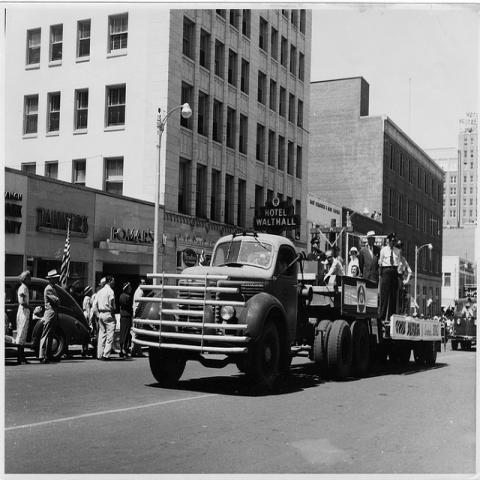car: (4, 276, 94, 360)
truck: (131, 216, 448, 387)
